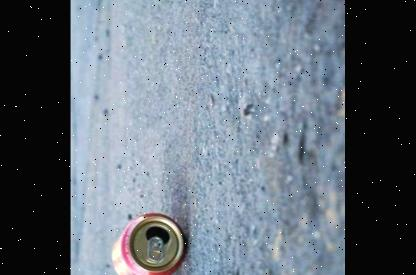Can: (107, 209, 191, 275)
